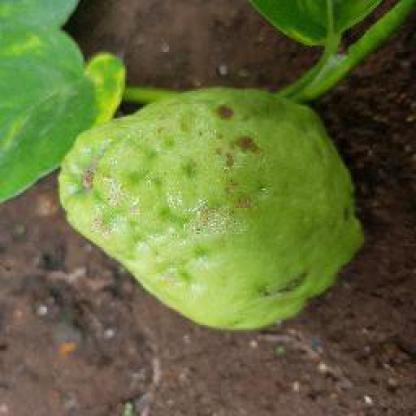guava: (56, 84, 366, 330)
